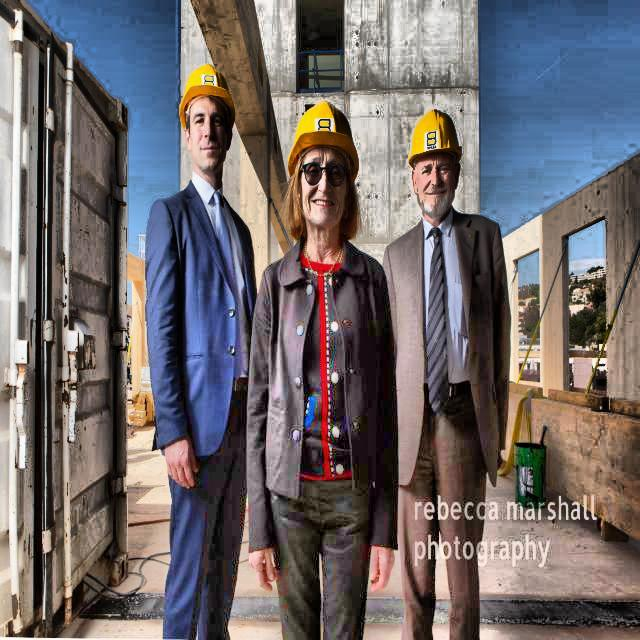person: (242, 96, 401, 632), (385, 106, 517, 640), (138, 55, 247, 640)
